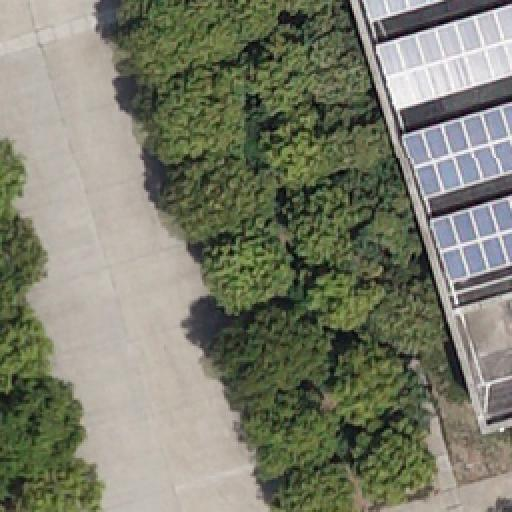solar-panel: (376, 2, 512, 110), (400, 100, 512, 200), (432, 196, 512, 284), (361, 0, 439, 24)
